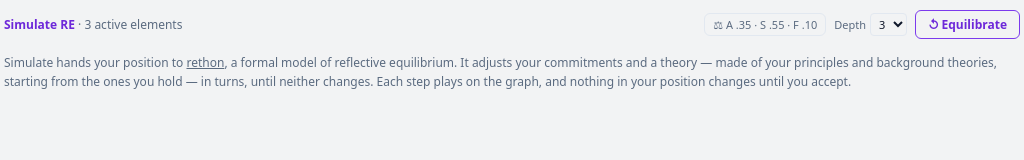
Scenario: stopping a simulation › aborts the request and says so, without an error
Click the button "↺ Equilibrate" at (968, 24), box [915,10,1020,39]
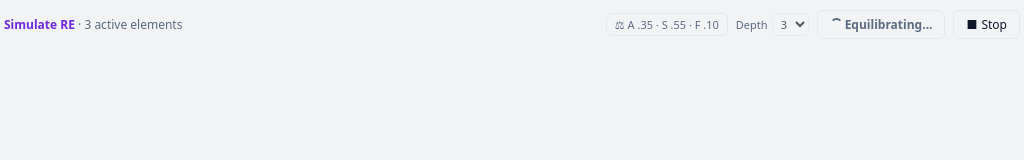
Click the button "■ Stop" at (987, 24), box [954,10,1020,39]
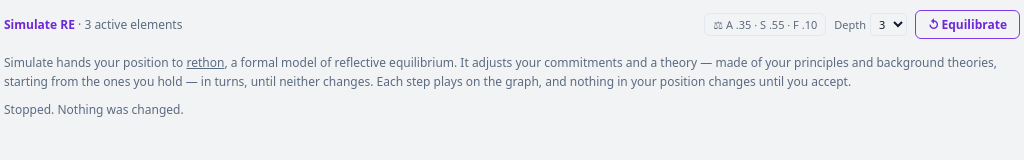
Now the button "↺ Equilibrate" is enabled, box [915,10,1020,39]
Now the message shows "Stopped", box [4,101,184,118]
